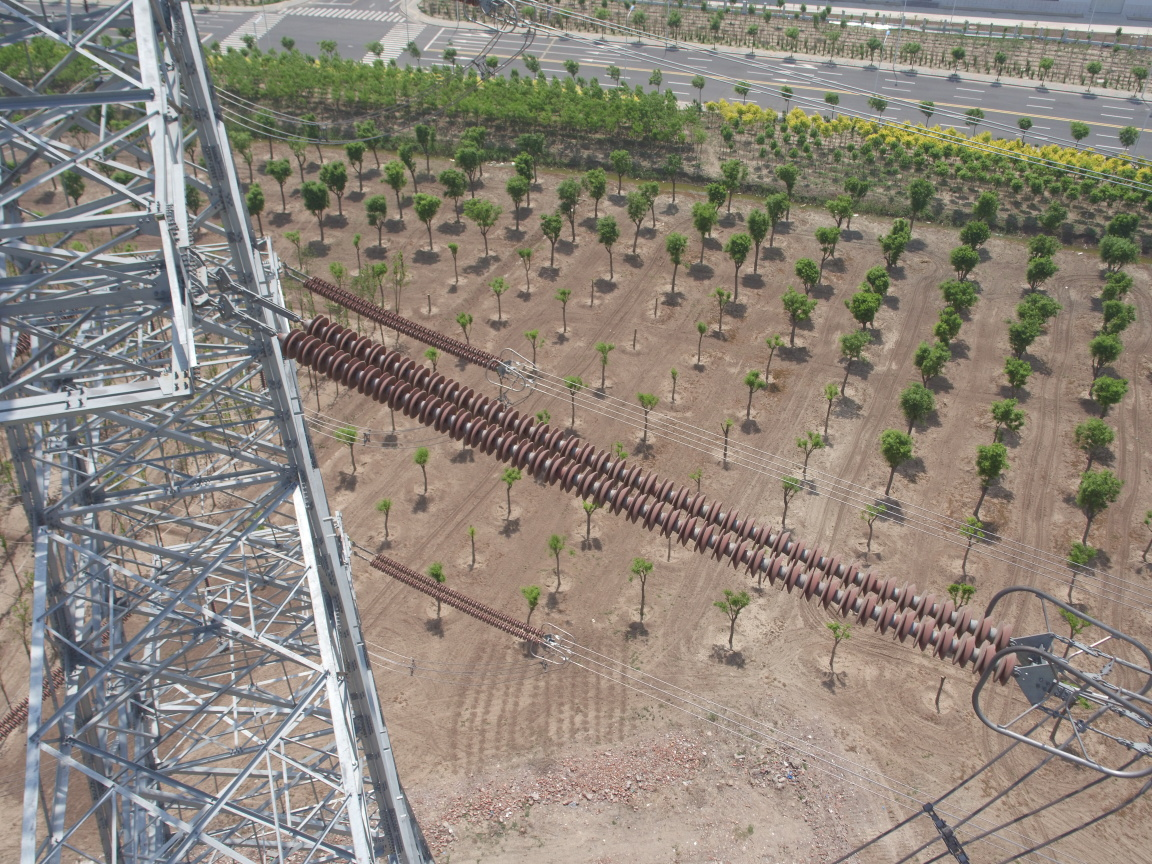insulator: (235, 303, 1042, 688), (283, 271, 512, 375), (362, 549, 552, 648)
